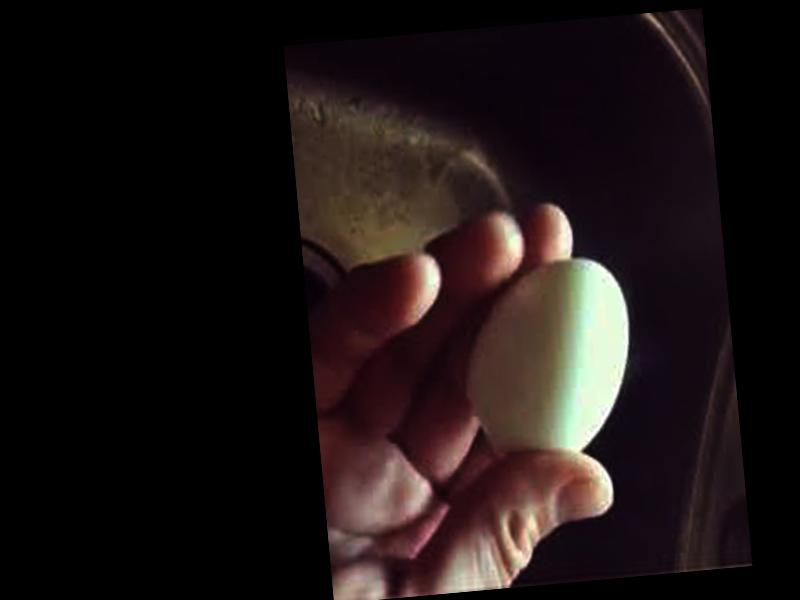Eggs: (458, 253, 640, 462)
